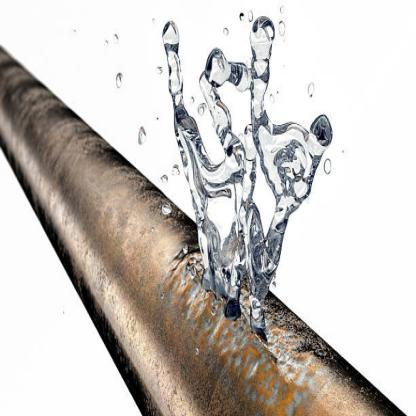burst: (154, 202, 326, 375)
